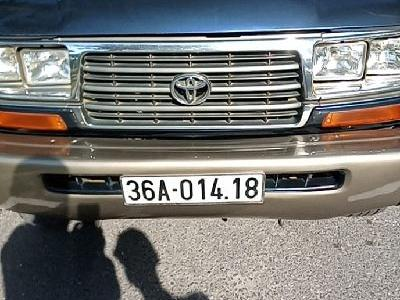lisence: (118, 171, 267, 207)
